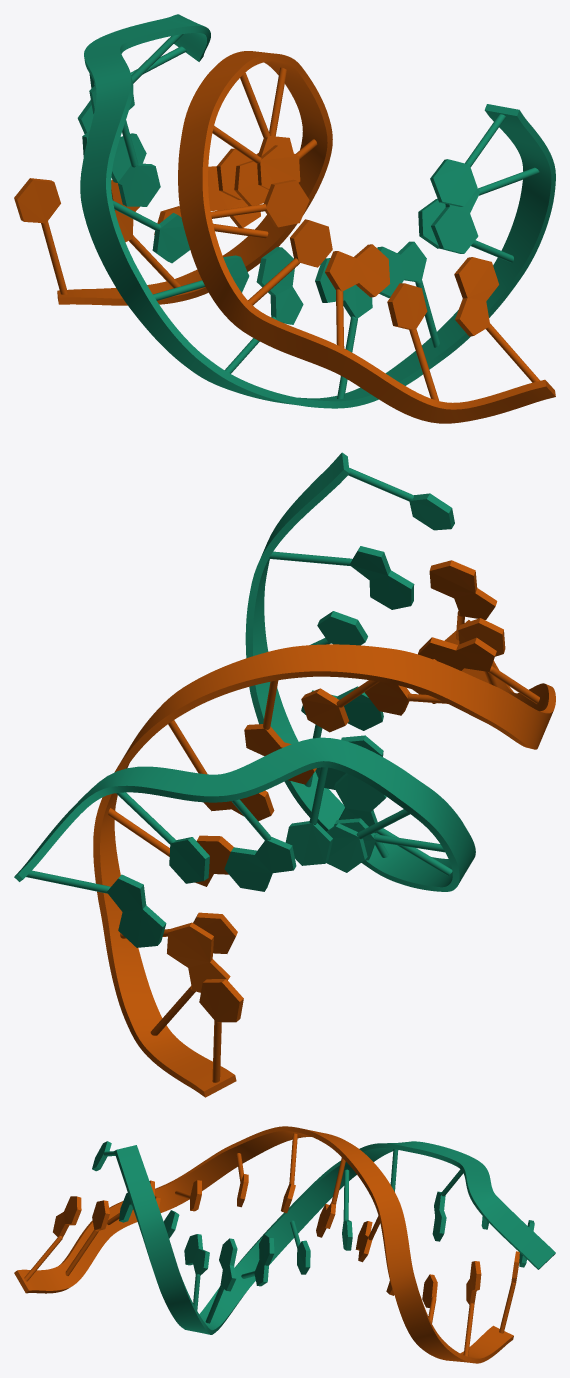
The model's file is 1BNA-20250310T214454361Z-wkkc1a.glb.
3 renders of one model, top to bottom at view 1: azimuth 30°, elevation 25°; view 2: azimuth 150°, elevation 25°; view 3: azimuth 270°, elevation 25°, orthographic. The views are drawn at different scales.
Bounding box in the file's own units: 20.2 × 22.02 × 44.34.
